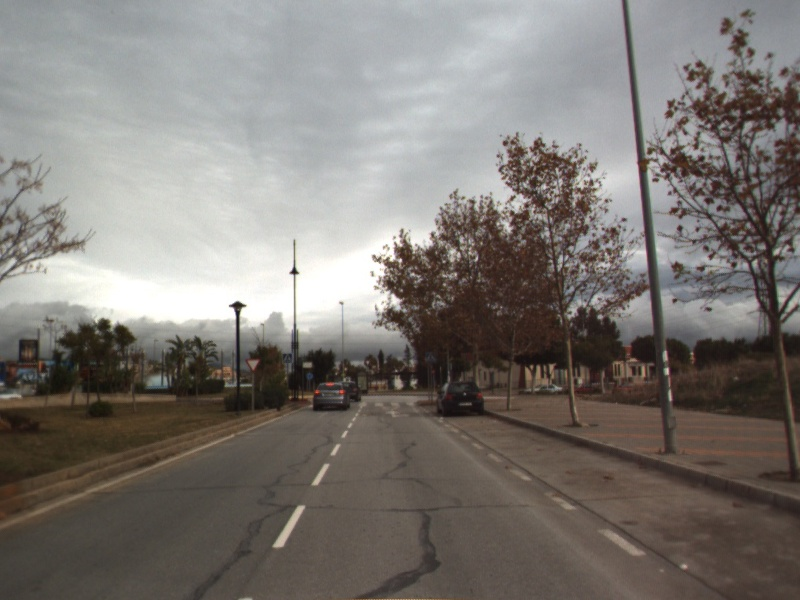STRAIGHT_RIGHT: (383, 407, 412, 419)
